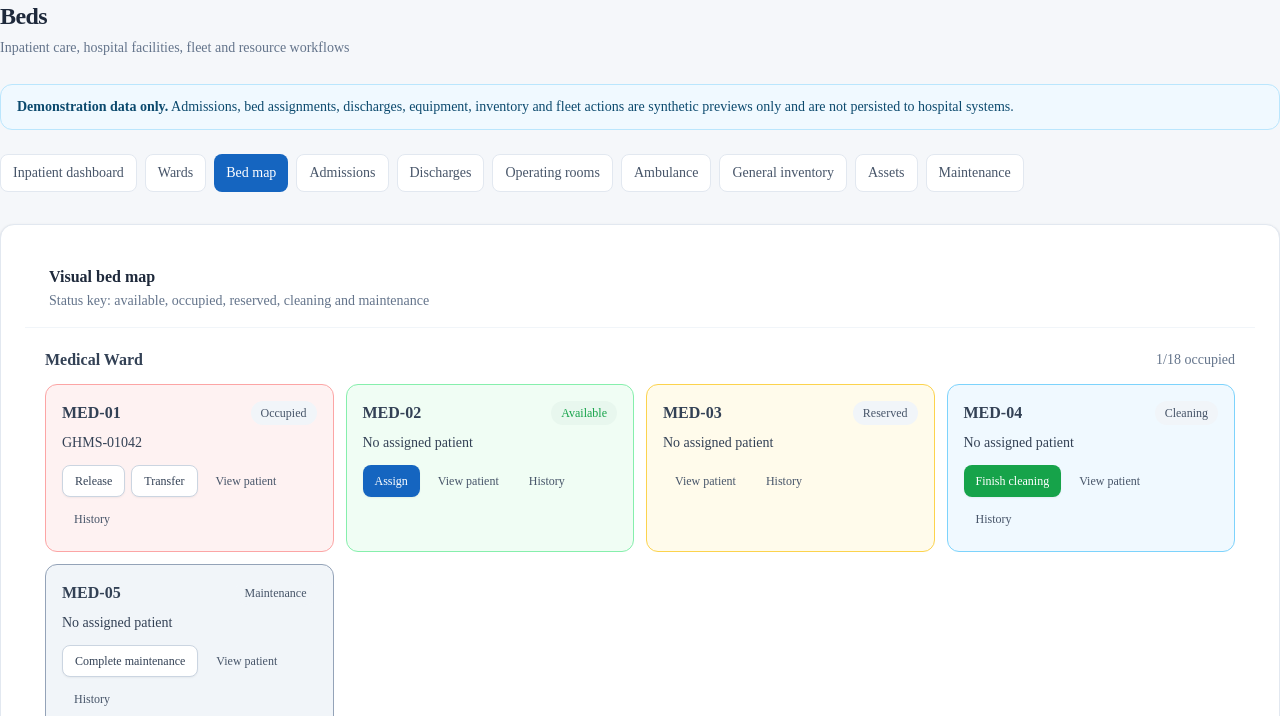
Test: HospitalResourcesScreen › transfers a patient to an available bed and updates the admission record
Click the button "Transfer" at (164, 481), box [131, 465, 198, 497]
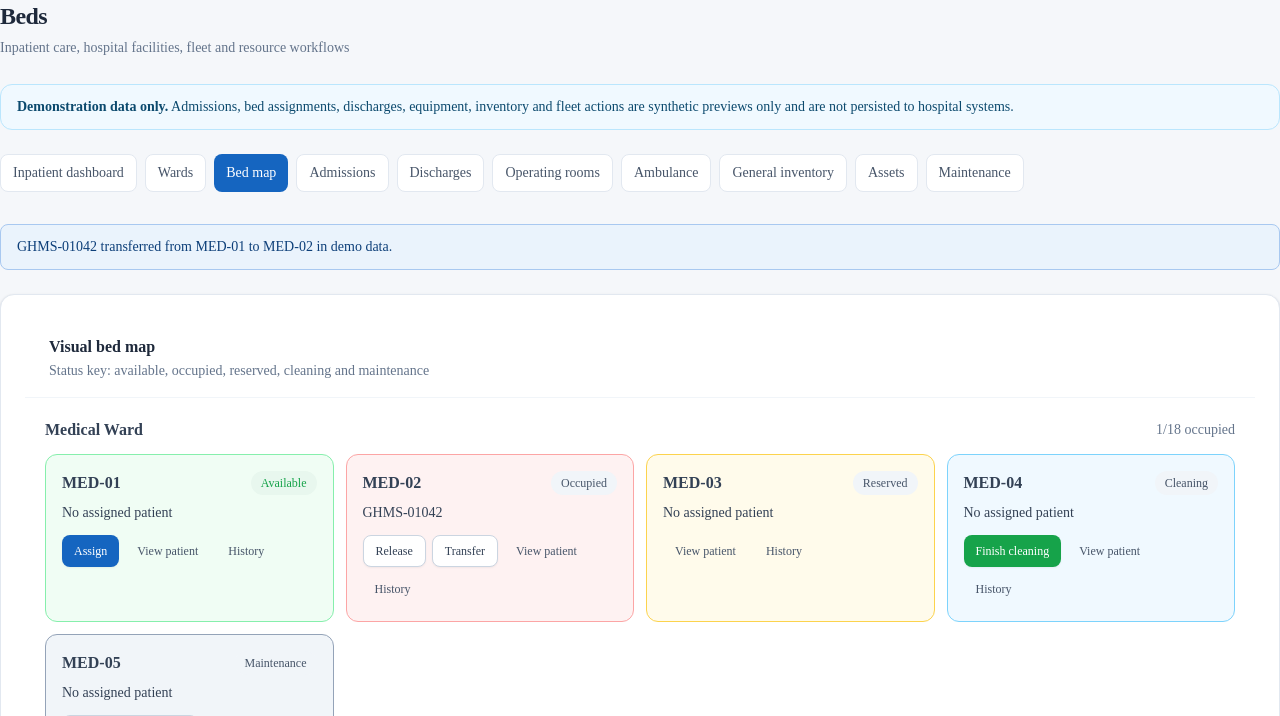
Check: the message shows "transferred from MED-01 to MED-02", box [17, 239, 392, 254]
Click the tab "Admissions" at (342, 173), box [296, 154, 388, 192]
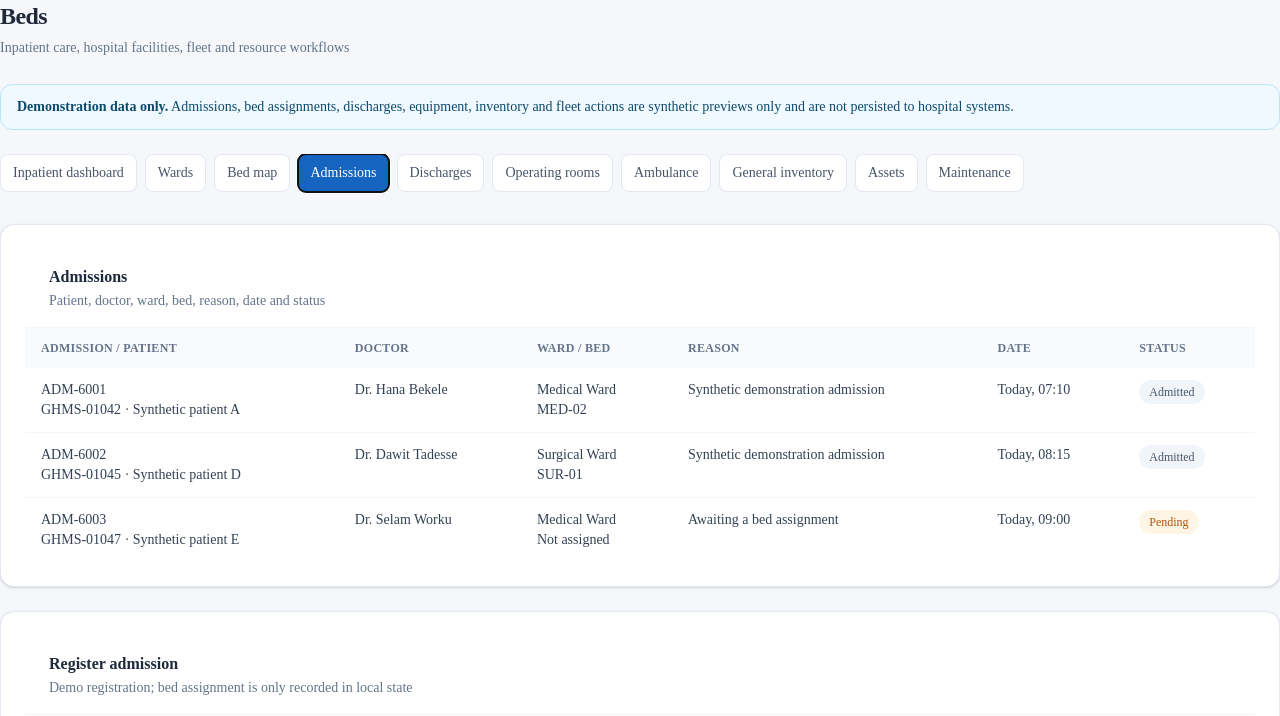
Check: the row that starts with "ADM-6001" shows "MED-02", box [537, 402, 587, 417]
